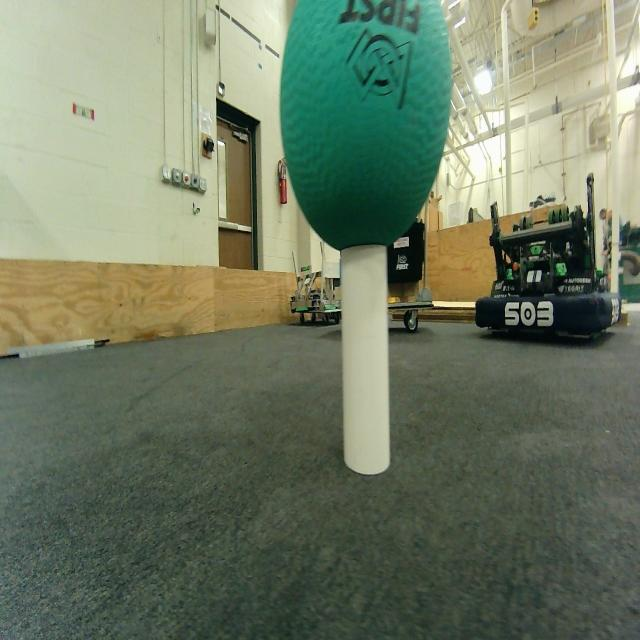algae: (280, 0, 452, 250)
coral: (340, 245, 390, 474)
